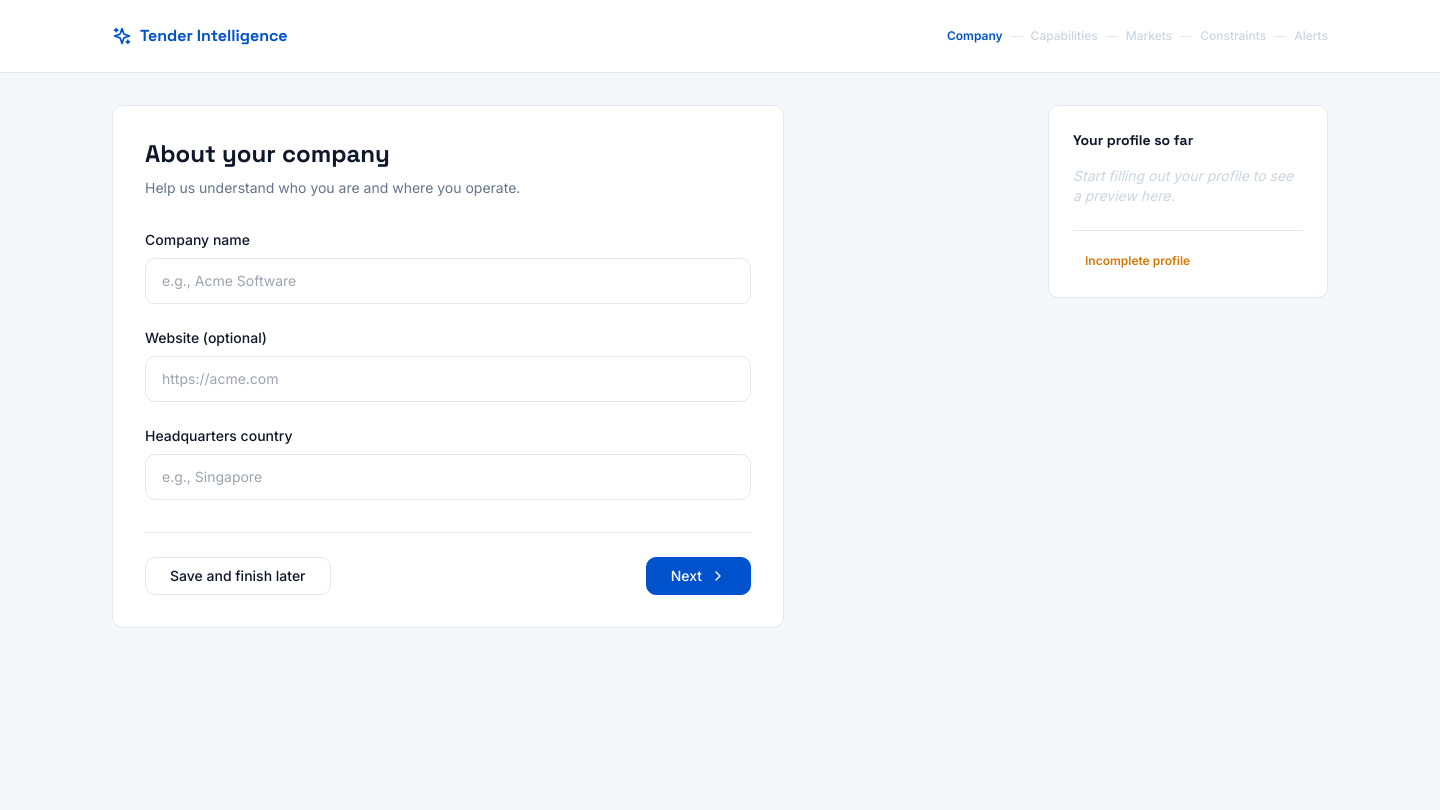
OnboardingWizard › updates the profile preview when selecting services
This screenshot has width=1440, height=810.
Note: Go to Capabilities step
What coordinates should you click on to do the following:
click the button "Next"
I would click on:
 (698, 576)
Its box is 646,557 -> 751,595.
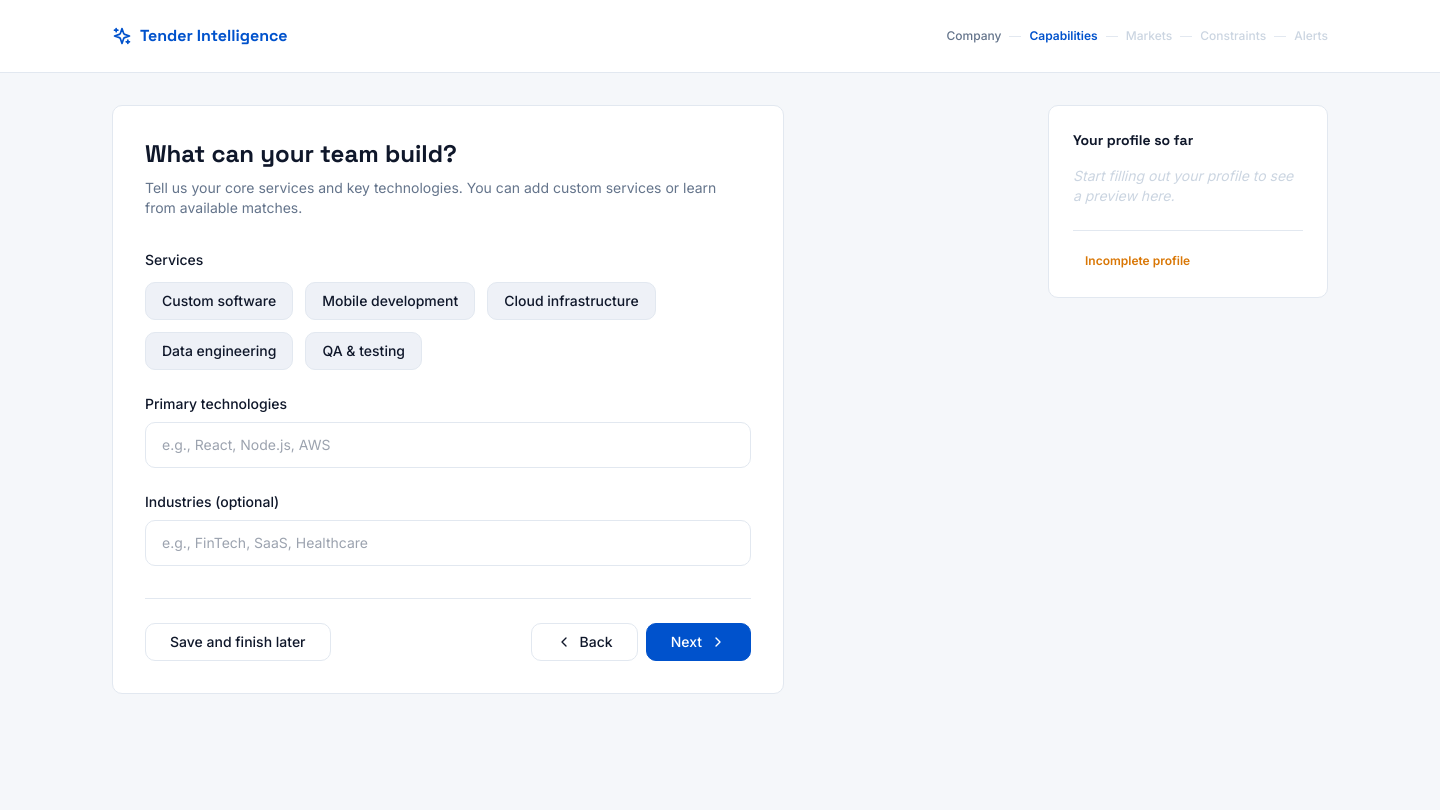
What coordinates should you click on to do the following:
click the button "Custom software"
I would click on:
 (219, 301)
Its box is 145,282 -> 293,320.
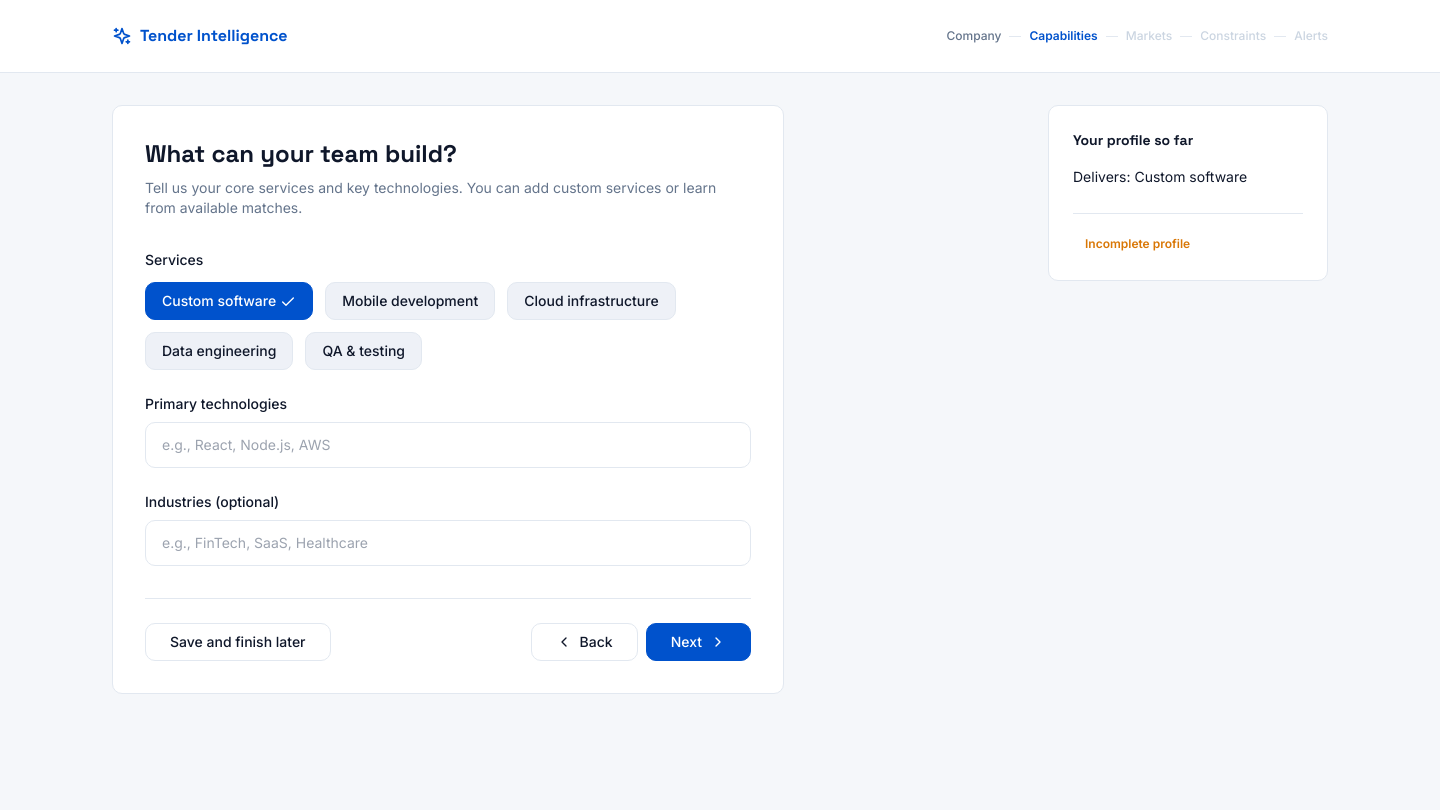
Check: the text "Delivers: Custom software" is shown, box 1073,168 -> 1247,185
